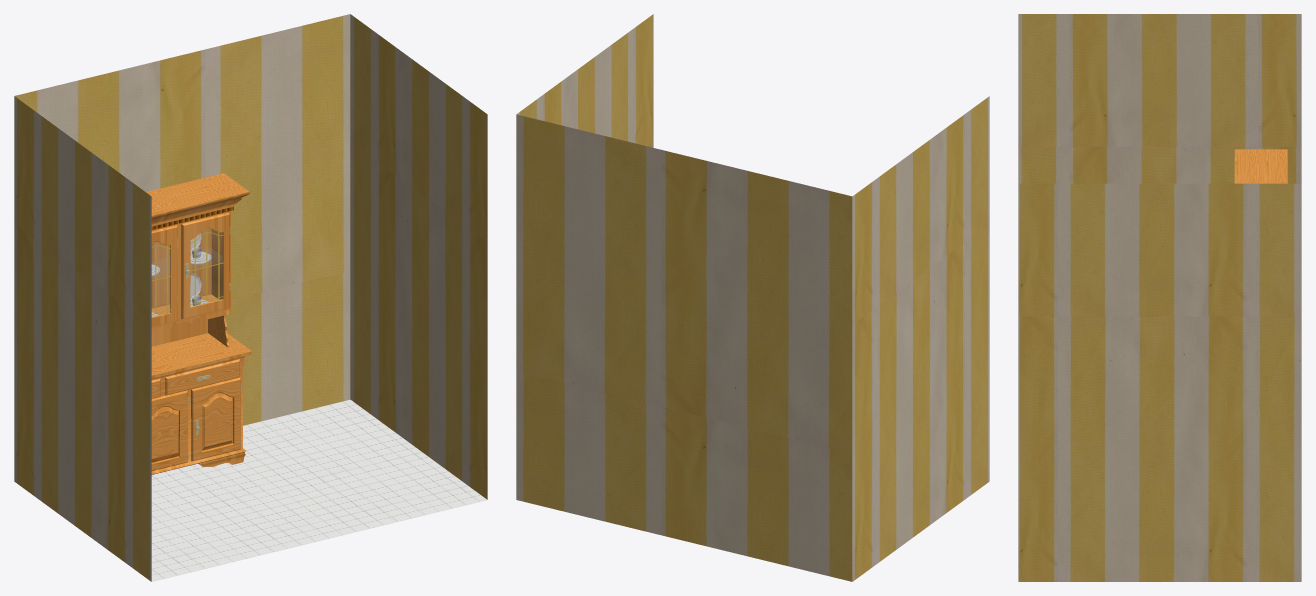
Rendered from armoire.fbx.
3 views of the same model, side by side, from view 1: azimuth 30°, elevation 25°; view 2: azimuth 150°, elevation 25°; view 3: azimuth 270°, elevation 25° (orthographic). The views are drawn at different scales.
Parts seen in each view (by area): view 1: Background1, Armoire1, Lwindow5, Lwindow4; view 2: Background1; view 3: Background1, Armoire1.
Boxes of the visible parts, <box> form: Background1: <box>14,14,487,581</box>; Armoire1: <box>146,173,251,474</box>; Lwindow5: <box>190,228,223,306</box>; Lwindow4: <box>151,242,170,316</box>; Background1: <box>516,14,989,581</box>; Background1: <box>1018,14,1301,581</box>; Armoire1: <box>1234,149,1287,183</box>.
Size of the model in its own units: 24 by 26.3 by 16.96.
8 materials, 4 textured.
